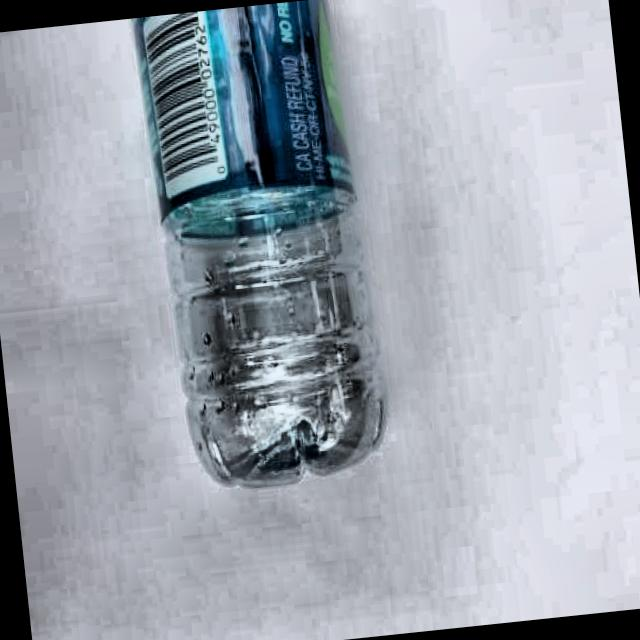plastic bottle: (130, 0, 385, 487)
